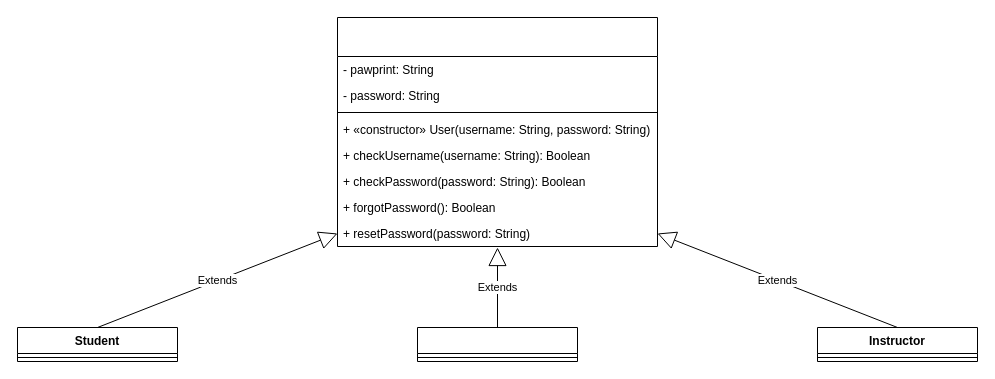
Some shapes in this 995 by 379 pixel diagram are drawn without their labels. Each missing label, with the box of its shape:
TA: (416, 326, 578, 362)
«abstract» User: (336, 16, 658, 246)
